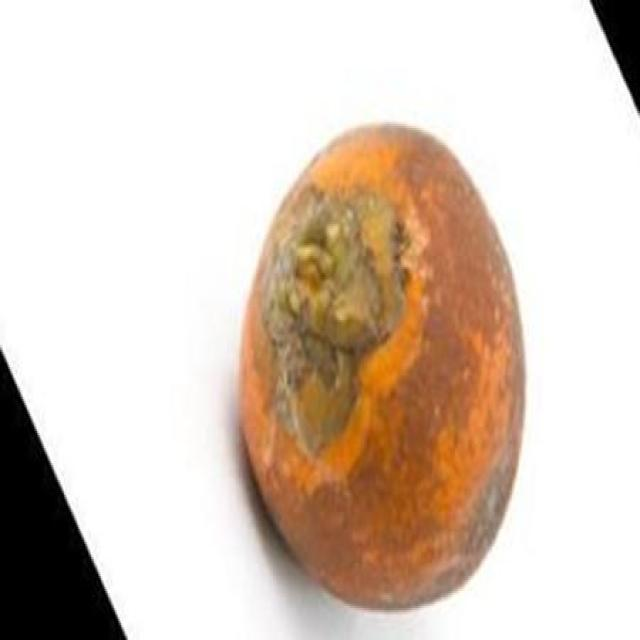good: (238, 126, 528, 614)
